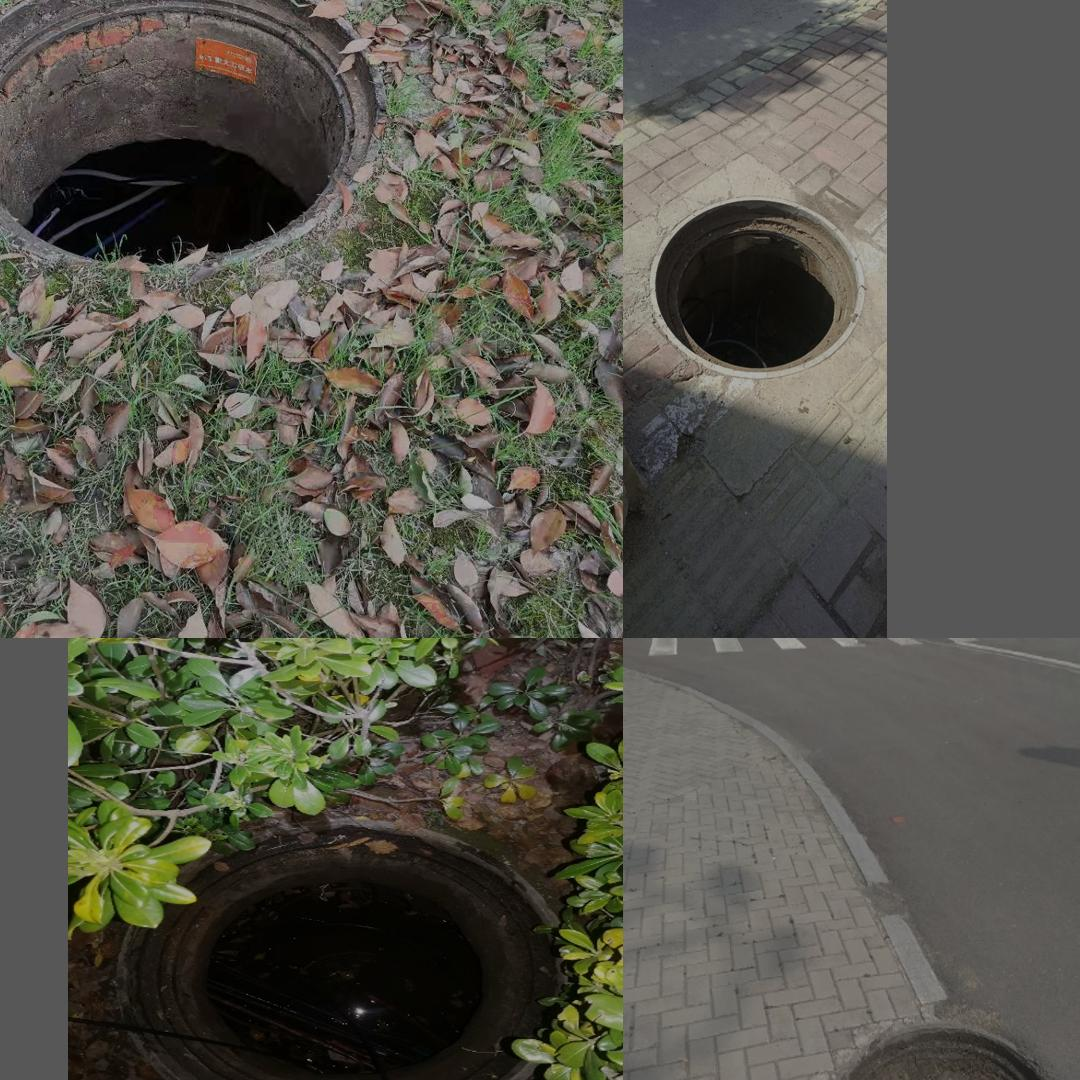lose: (115, 815, 587, 1080), (0, 0, 391, 276), (649, 196, 863, 378), (828, 1021, 1058, 1080)
